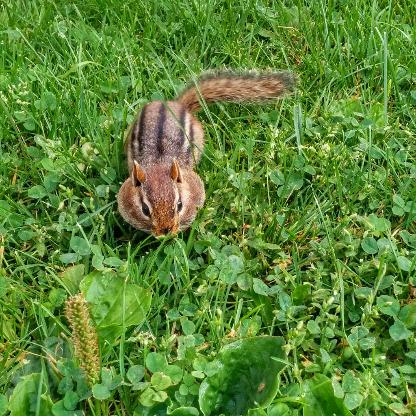Squirrel: (119, 60, 294, 247)
